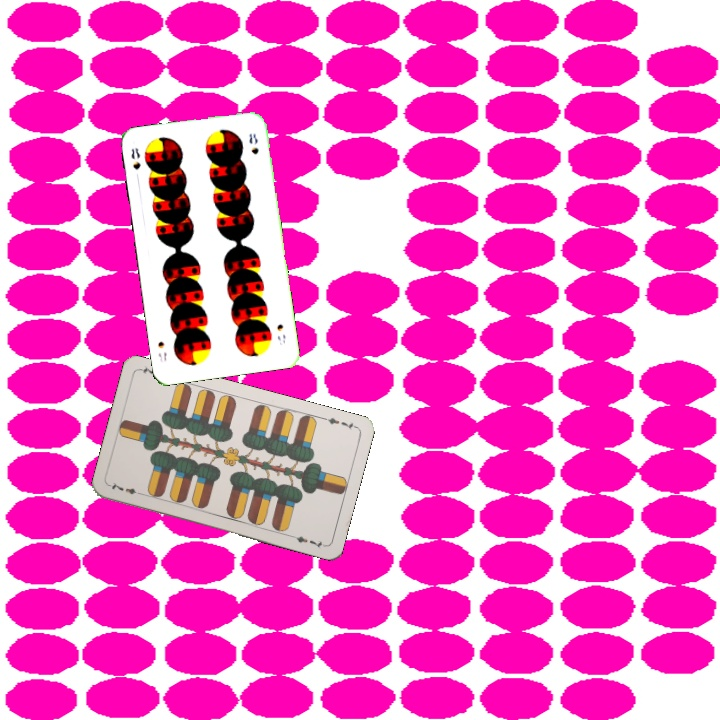E7: (106, 478, 146, 498), (319, 413, 359, 432)
S8: (127, 144, 143, 172), (273, 320, 288, 347)
